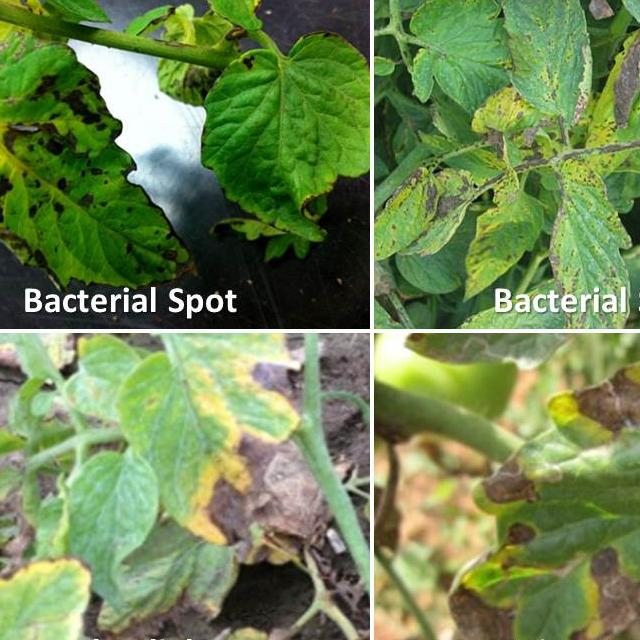Tomato Early blight leaf: (0, 344, 316, 640), (0, 42, 192, 310), (173, 40, 368, 271), (532, 136, 639, 324), (489, 0, 603, 142), (623, 0, 640, 166)
